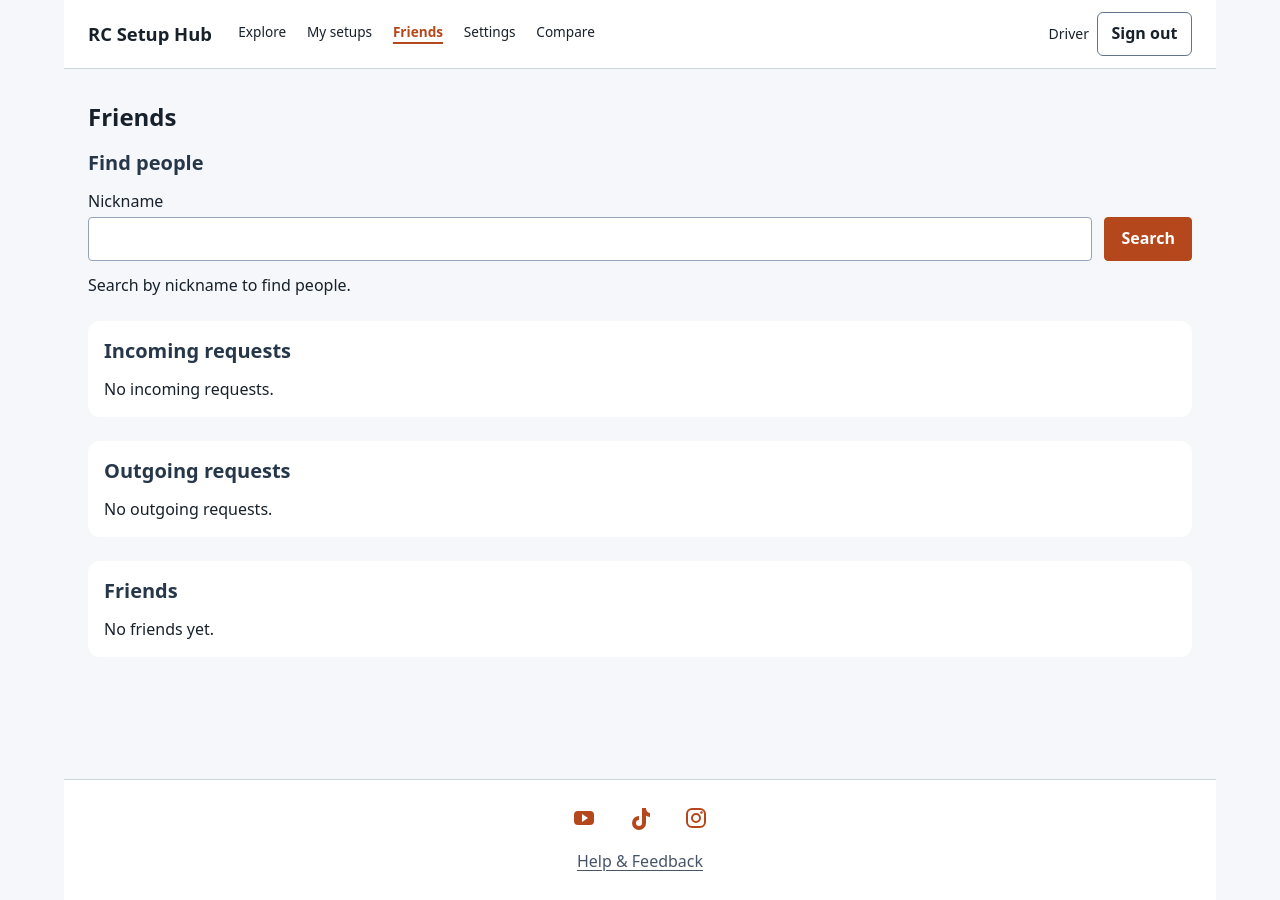
send 409 refetches raced outgoing state without retrying POST
Type "driver" into the field labelled "Nickname" at (590, 239), box [88,217,1092,261]
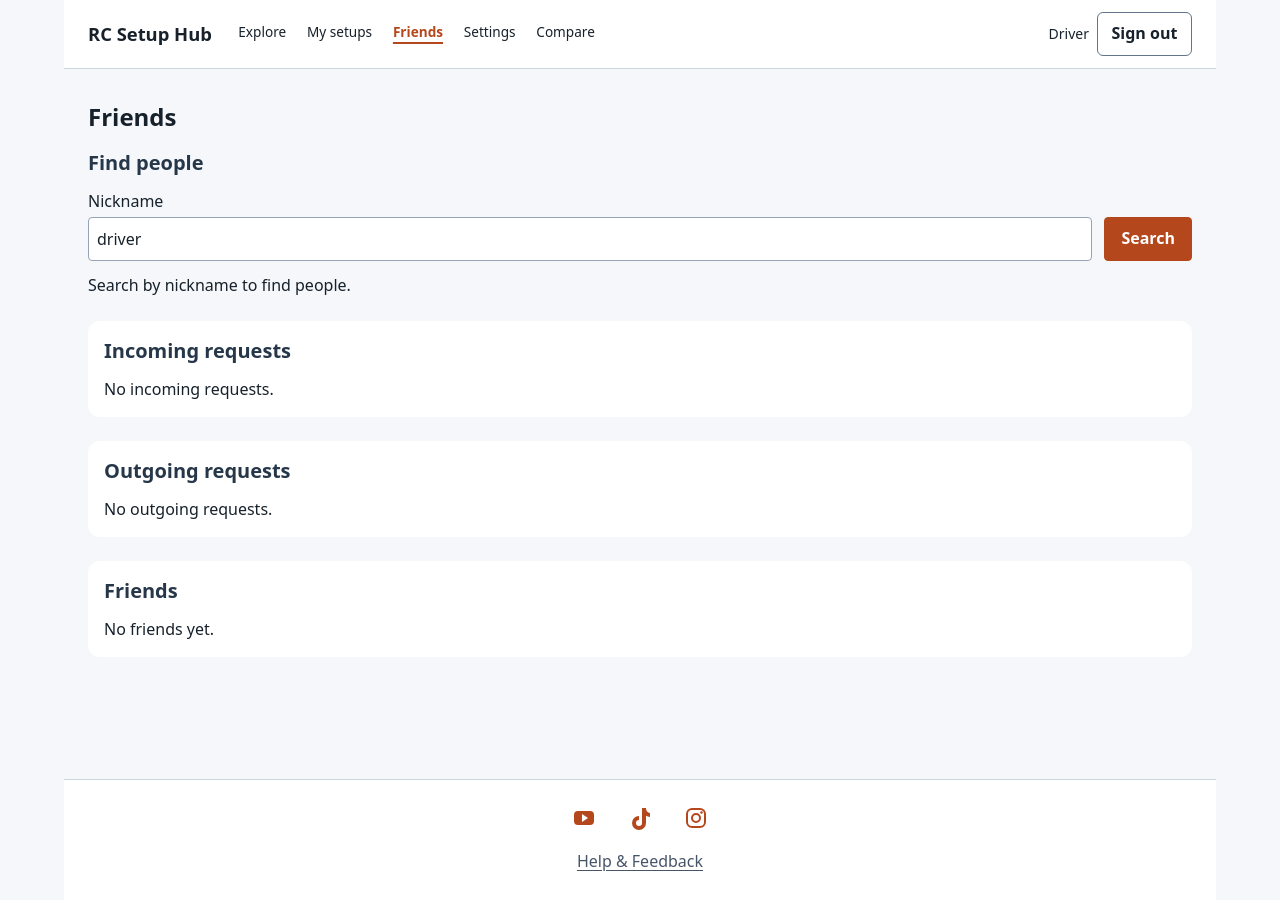
Click the button "Search" at (1148, 239), box [1104,217,1192,261]
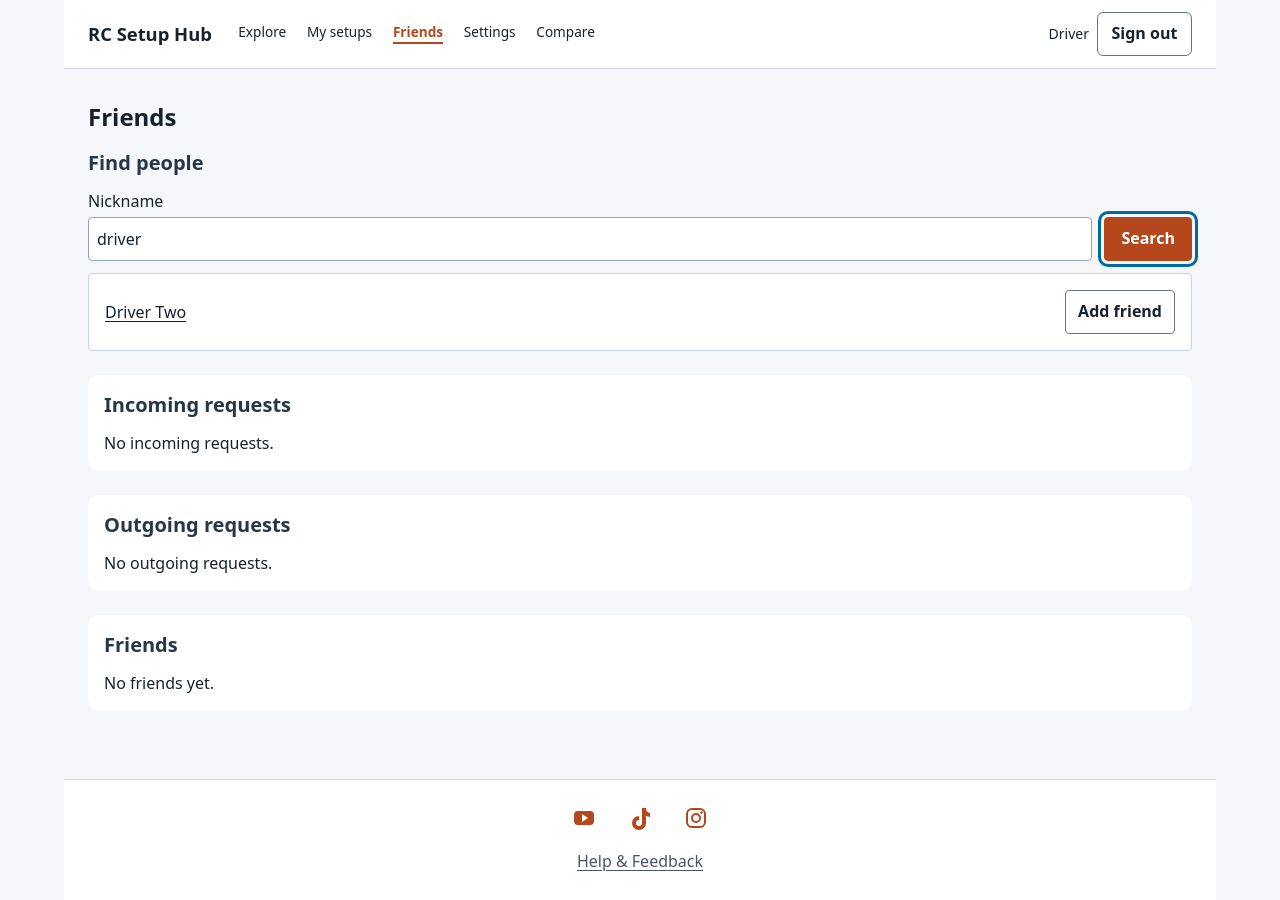
Click the button "Add friend" at (1120, 312), box [1065,290,1175,334]
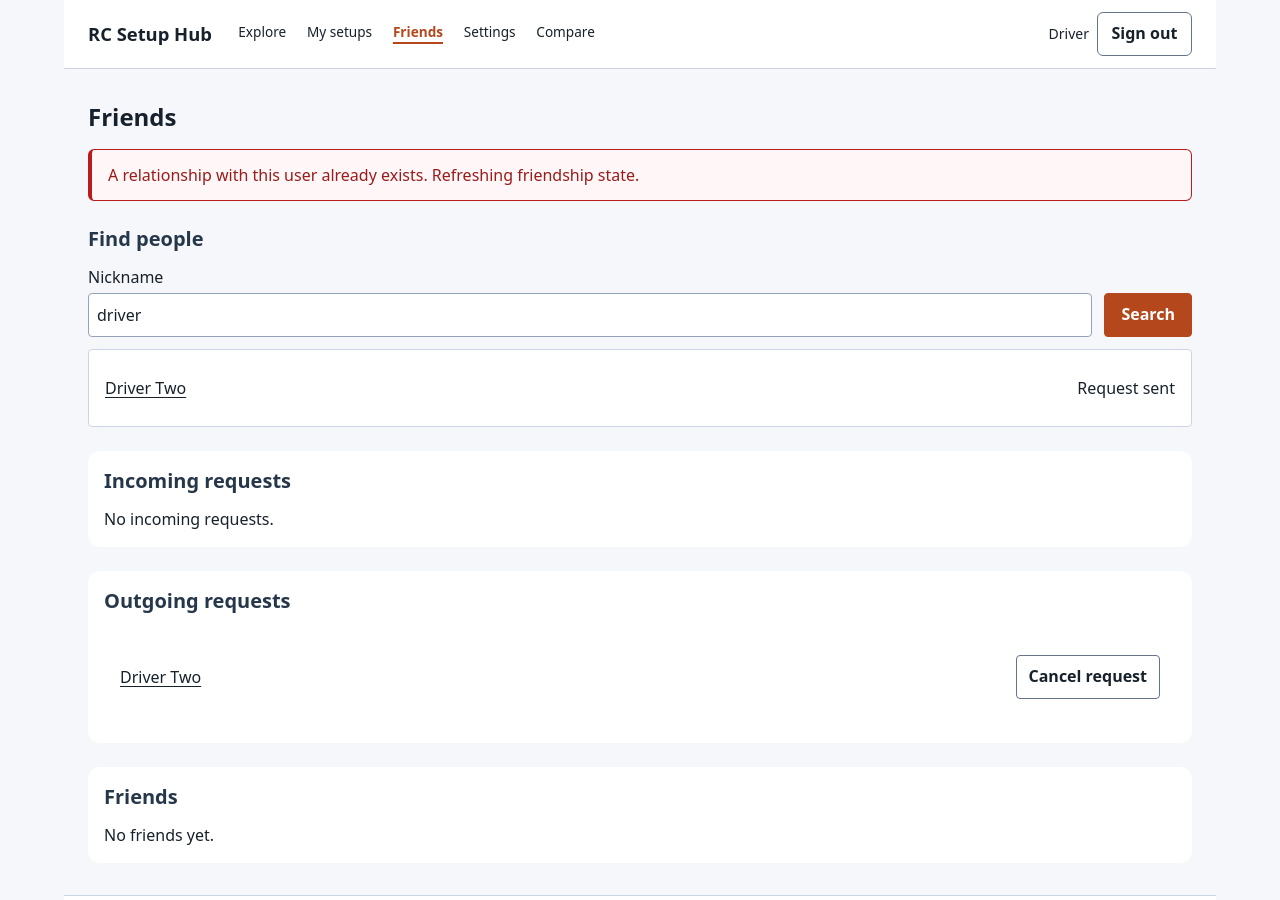
Now the message shows "A relationship with this user already exists", box [108,164,639,186]
Now the text "Request sent" is shown, box [1077,376,1175,400]
Now the button "Add friend" is gone
